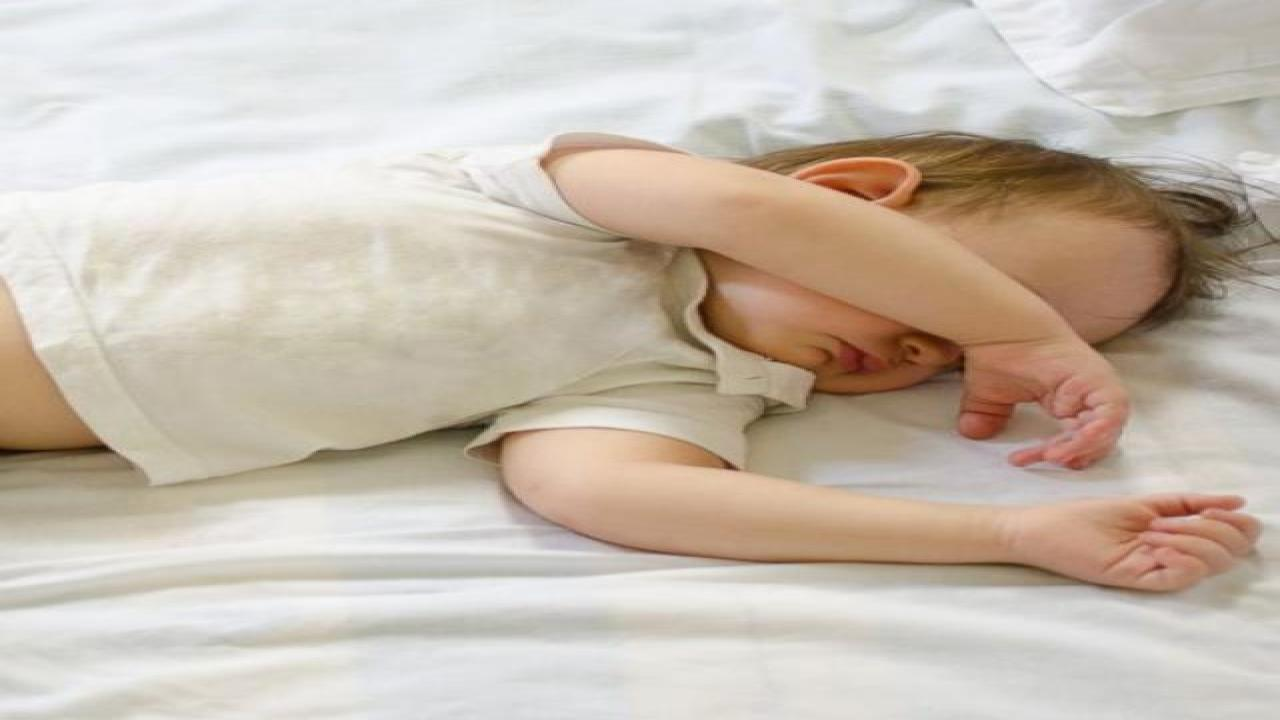hand: (1008, 484, 1265, 603), (960, 330, 1135, 472)
